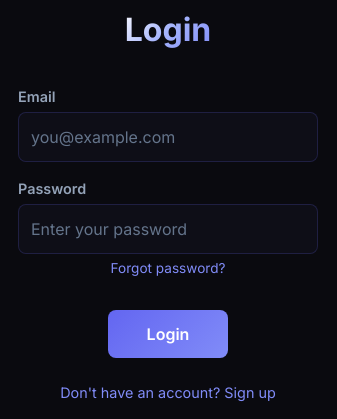
Login › disables button during loading
Type "test@test.com" into the field labelled "Email".
click(168, 137); type("test@test.com")  # box [18, 112, 318, 162]
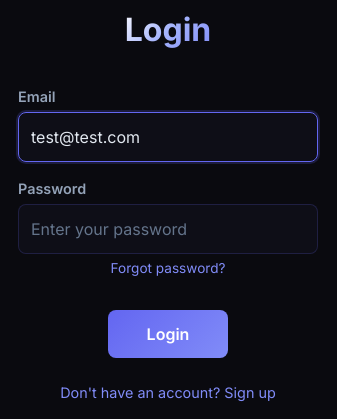
Type "password123" into the password field labelled "Password".
click(168, 229); type("password123")  # box [18, 204, 318, 254]
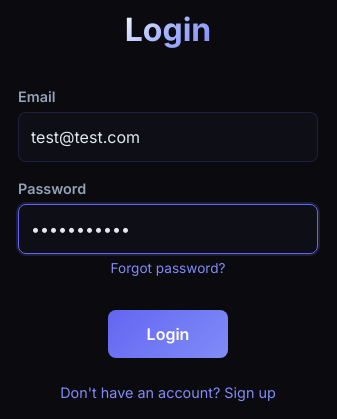
Click the button "Login".
click(168, 334)  # box [108, 310, 228, 358]
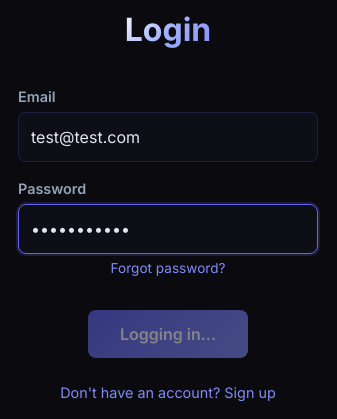
expect the button "Logging in..." is disabled: met, box [88, 310, 248, 358]
